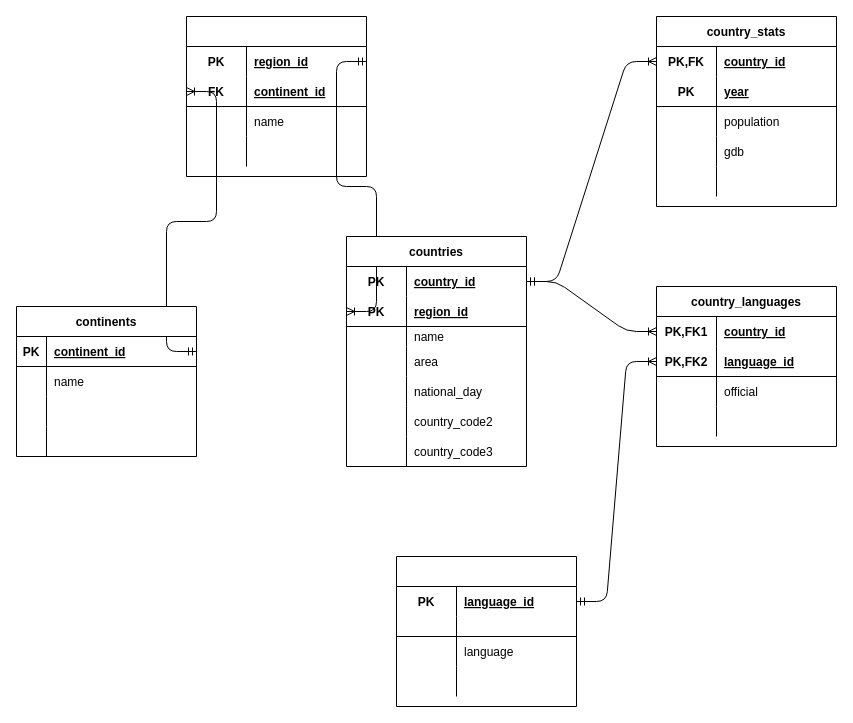
Some shapes in this 853 by 723 pixel diagram are drawn without their labels. Here are the shapes that lost their labels. From the top down, the box of each, then its label:
(186, 16, 366, 176): regions
(396, 556, 576, 706): languages
